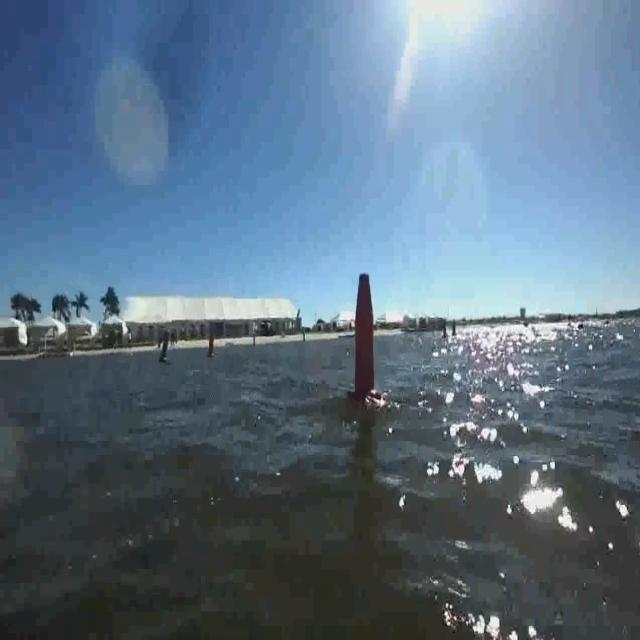green-column-buoy: (160, 332, 173, 364)
red-column-buoy: (348, 271, 383, 409), (206, 331, 218, 361)
